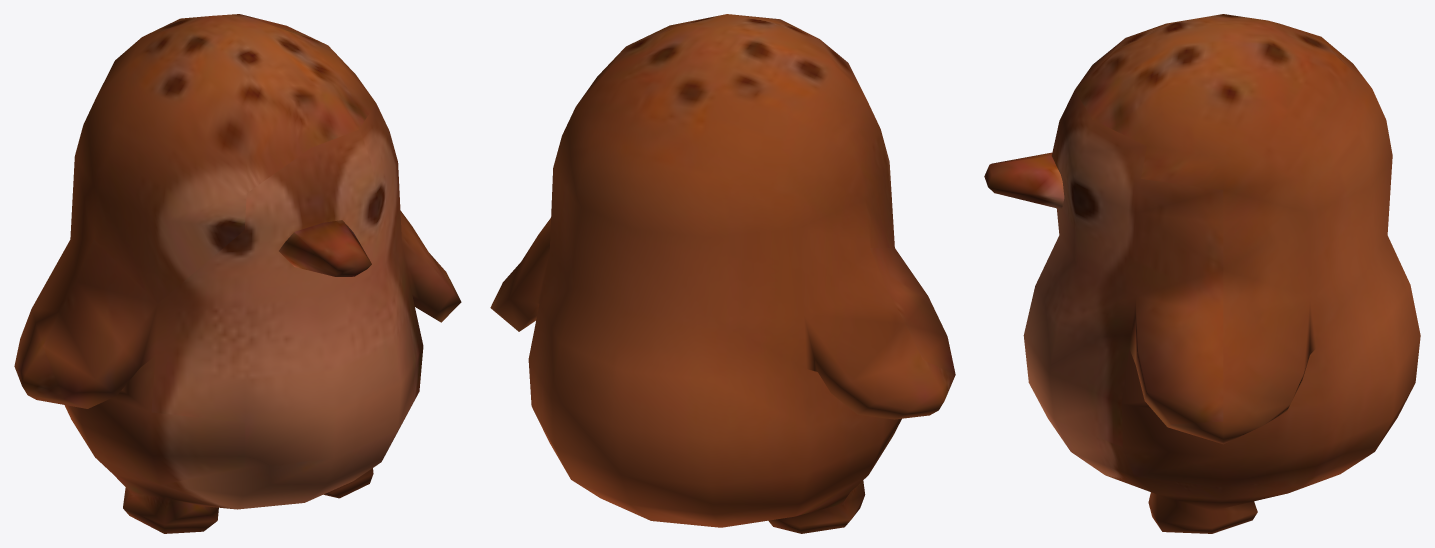
File: penguin-10-11-chocolate-clay-penguin.gltf
3 renders of one model, left to right at view 1: azimuth 30°, elevation 25°; view 2: azimuth 150°, elevation 25°; view 3: azimuth 270°, elevation 25°, orthographic. The views are drawn at different scales.
Parts seen in each view (by area): view 1: penguin-10-11-chocolate-clay-penguin; view 2: penguin-10-11-chocolate-clay-penguin; view 3: penguin-10-11-chocolate-clay-penguin.
Boxes of the visible parts, x1,y1,x2,y2 form: penguin-10-11-chocolate-clay-penguin: (14, 14, 461, 533); penguin-10-11-chocolate-clay-penguin: (490, 14, 955, 533); penguin-10-11-chocolate-clay-penguin: (984, 14, 1420, 533).
Bounding box in the file's own units: 0.2 × 0.2057 × 0.1773.
1 material, 1 textured.
